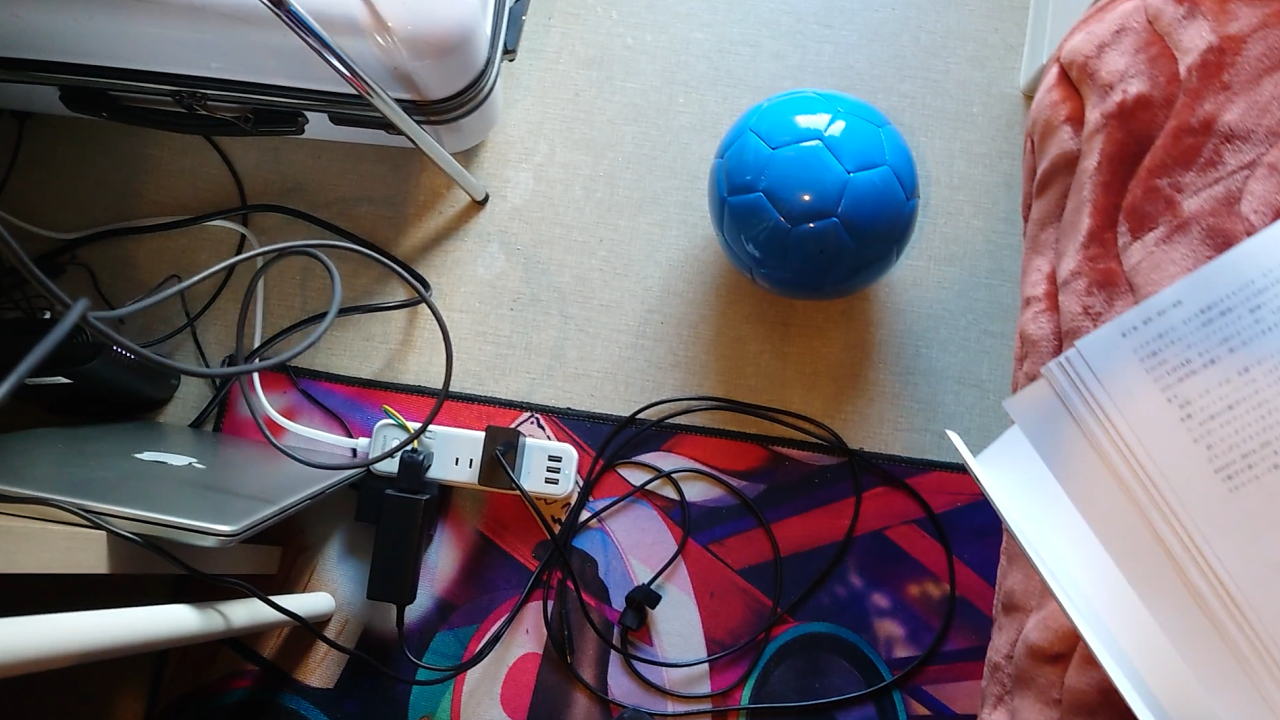blue: (718, 89, 918, 301)
